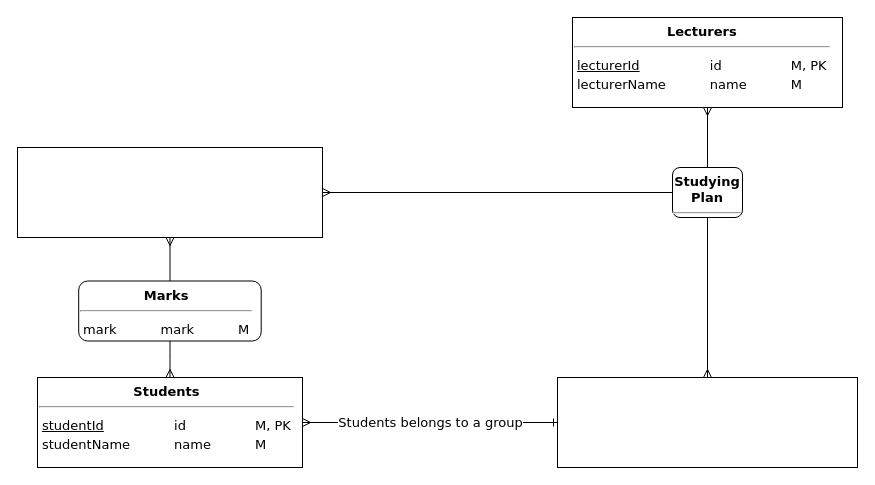
Image size: 875x485. Some labels were removed from this diagram. Each missing label, with the box of its shape:
Courses courseId id M, PK courseName course_name M: (16, 146, 322, 238)
Groups groupId id M, PK groupName group_name M, K1: (556, 376, 858, 468)
